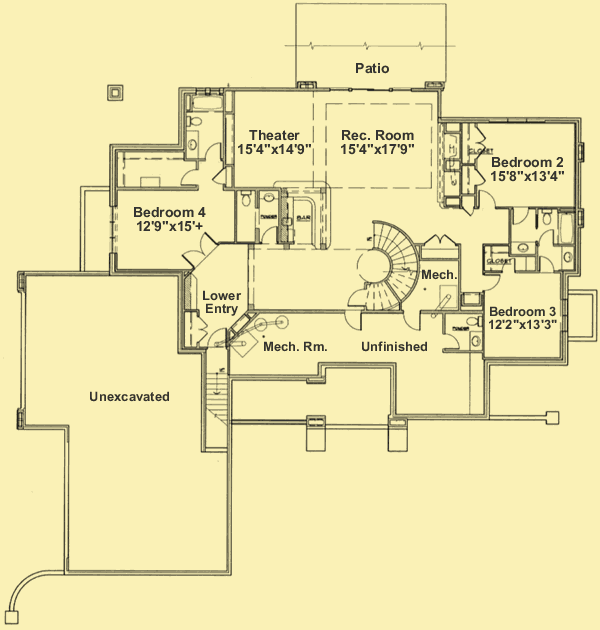bathroom has a bathtub, large sink and small sink: (509, 207, 578, 280), (180, 89, 230, 160)
open area has stairs: (337, 210, 426, 312)
small bathroom with large sink and small sink: (235, 190, 284, 249), (441, 311, 485, 353)
